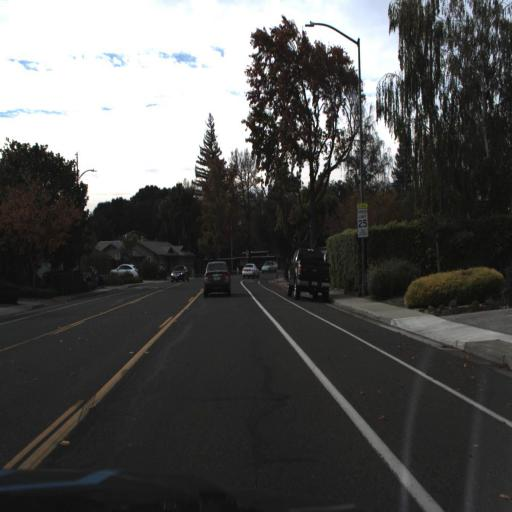car: (291, 248, 335, 308), (204, 259, 235, 299), (166, 261, 188, 283), (120, 266, 146, 284), (239, 261, 258, 281)
